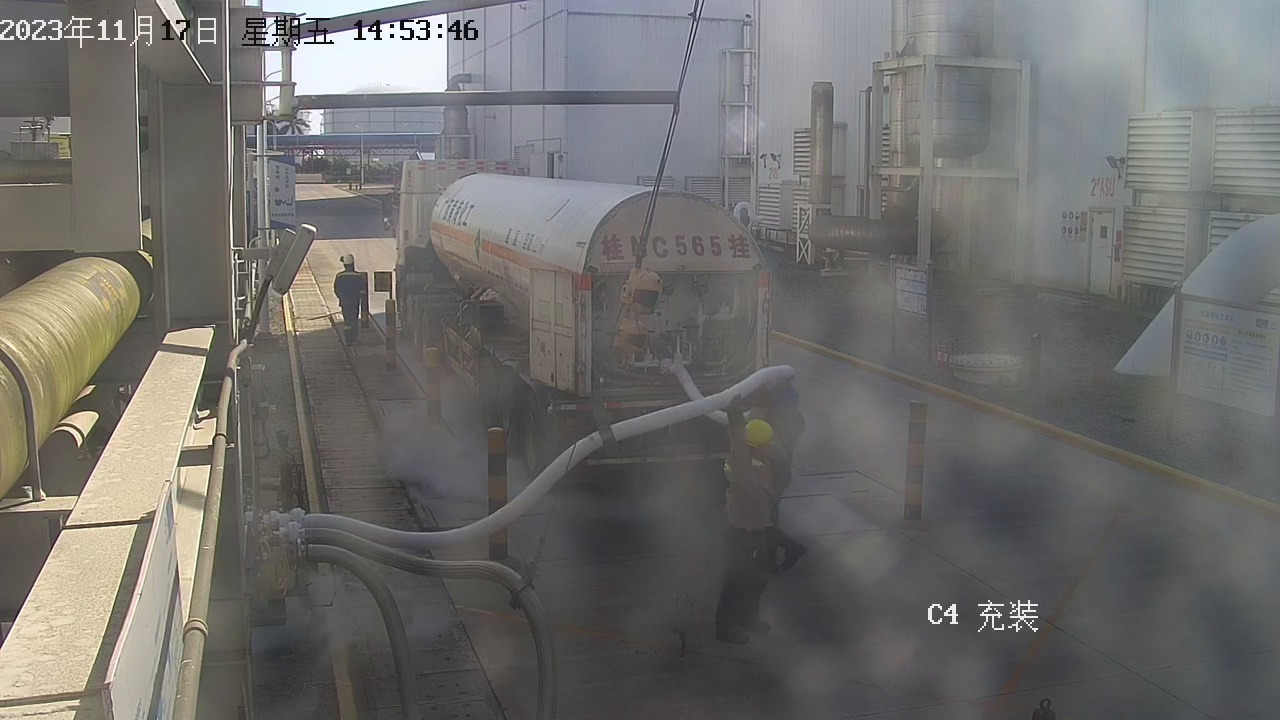Head_with_Helmet: (765, 377, 817, 417), (735, 417, 781, 456), (333, 250, 366, 272)
Uniform: (712, 446, 790, 645), (766, 414, 835, 569), (324, 261, 375, 348)
